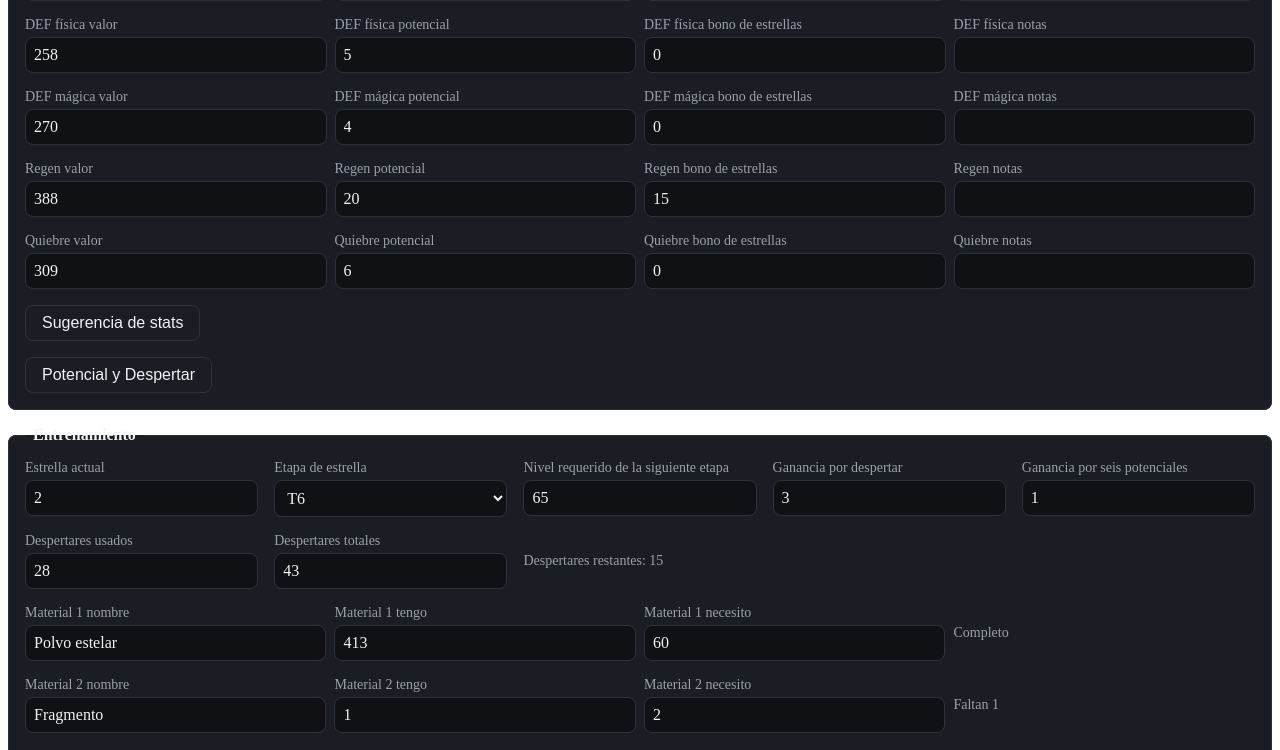
Test: cupo de Despertar › sin la seccion despertar el bloque dice sin datos y el resto se muestra
(page scrolled)
Click the button "Potencial y Despertar": (118, 375) x1=25 y1=357 x2=212 y2=393
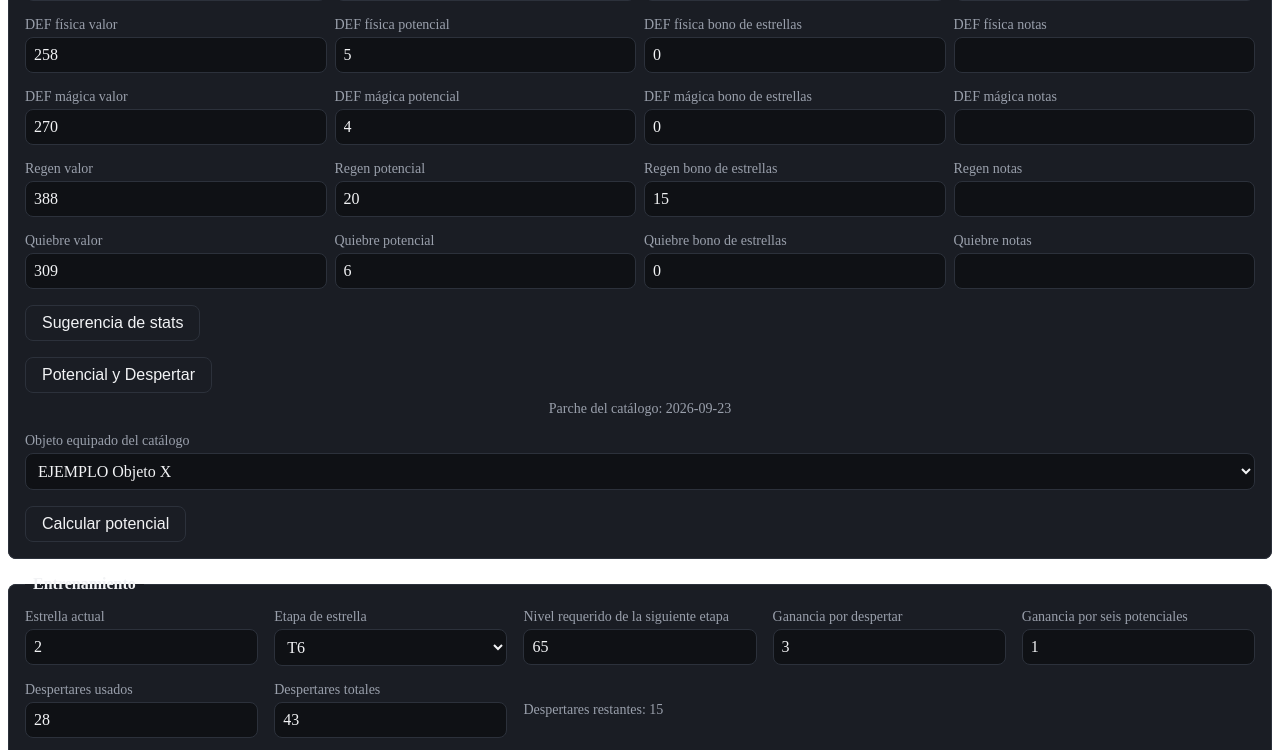
expect the button "Calcular potencial" is shown: met
Click the button "Calcular potencial": (106, 524) x1=25 y1=506 x2=186 y2=542
(page scrolled)
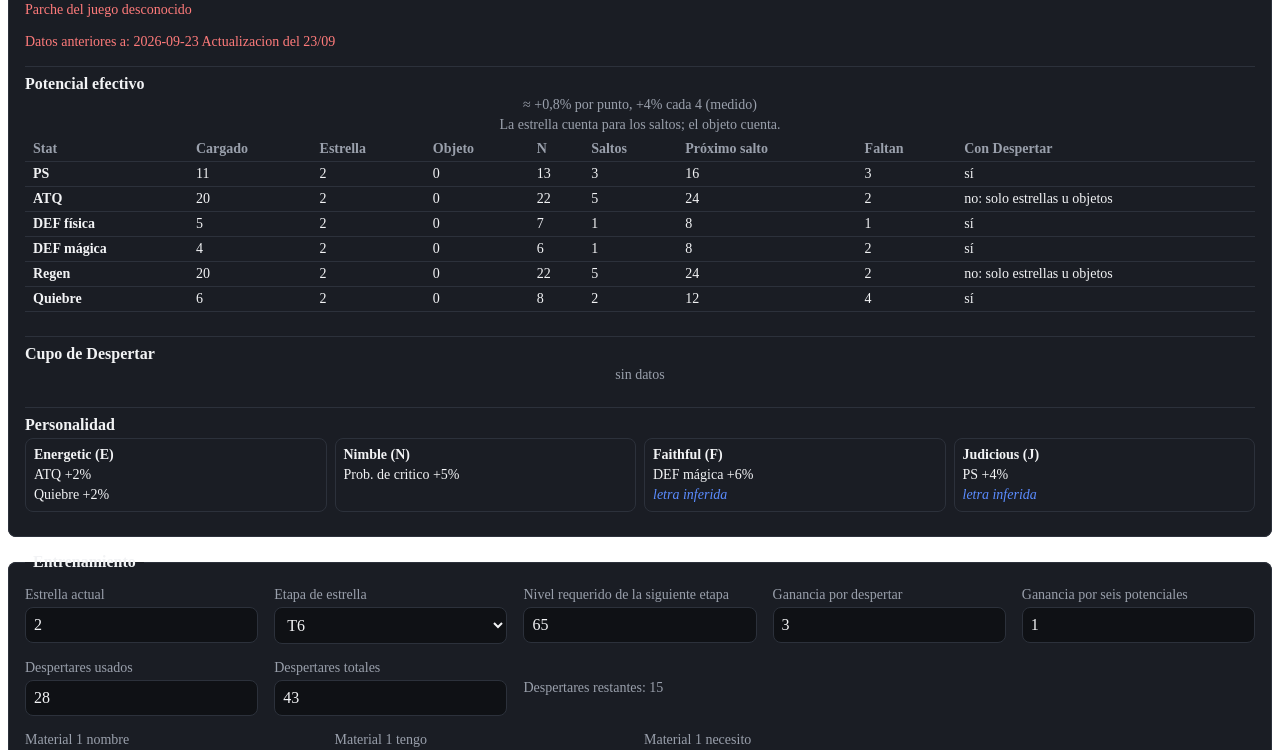
expect the table named "Potencial efectivo por stat" is shown: met, box x1=25 y1=137 x2=1255 y2=312
expect the text "sin datos" is shown: met, box x1=615 y1=367 x2=665 y2=383
